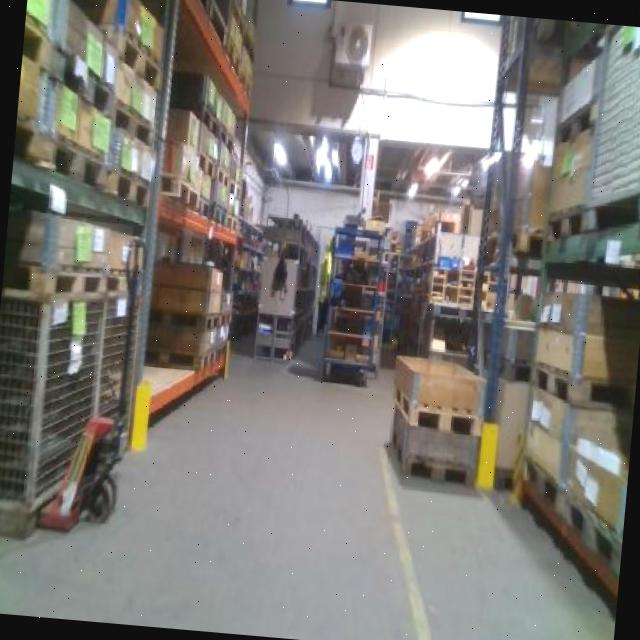pallet: (522, 352, 638, 421), (16, 256, 142, 312), (555, 481, 623, 583), (43, 126, 119, 205), (389, 381, 486, 442), (96, 19, 171, 95), (514, 448, 571, 536), (532, 198, 610, 250), (110, 85, 161, 159), (99, 154, 156, 217), (141, 300, 238, 334), (156, 171, 211, 218)
